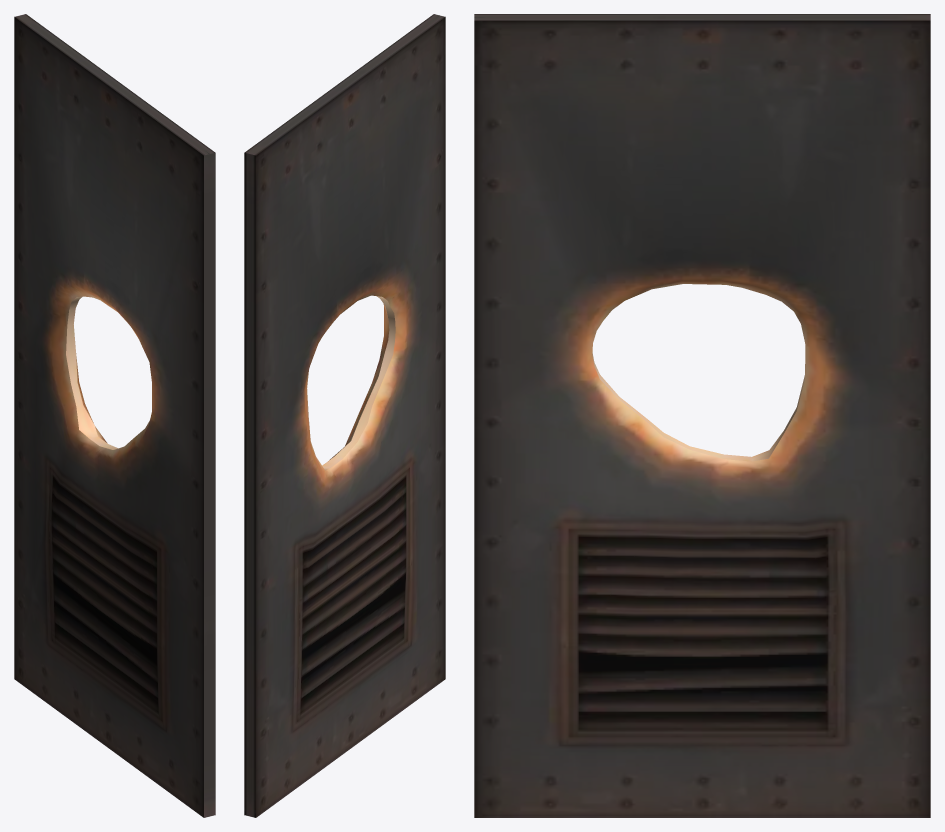
3 renders of one model, left to right at view 1: azimuth 30°, elevation 25°; view 2: azimuth 150°, elevation 25°; view 3: azimuth 270°, elevation 25°, orthographic. The views are drawn at different scales.
Visible parts, largest first — view 1: body0_model0_lod0_mesh0; view 2: body0_model0_lod0_mesh0; view 3: body0_model0_lod0_mesh0.
Part boxes in pixels (x1,y1,x2,y2): body0_model0_lod0_mesh0: (14, 14, 215, 817); body0_model0_lod0_mesh0: (244, 14, 445, 817); body0_model0_lod0_mesh0: (474, 14, 930, 817).
Bounding box in the file's own units: 4.31 × 108 × 56.
Materials: 1 (1 with a texture image).
